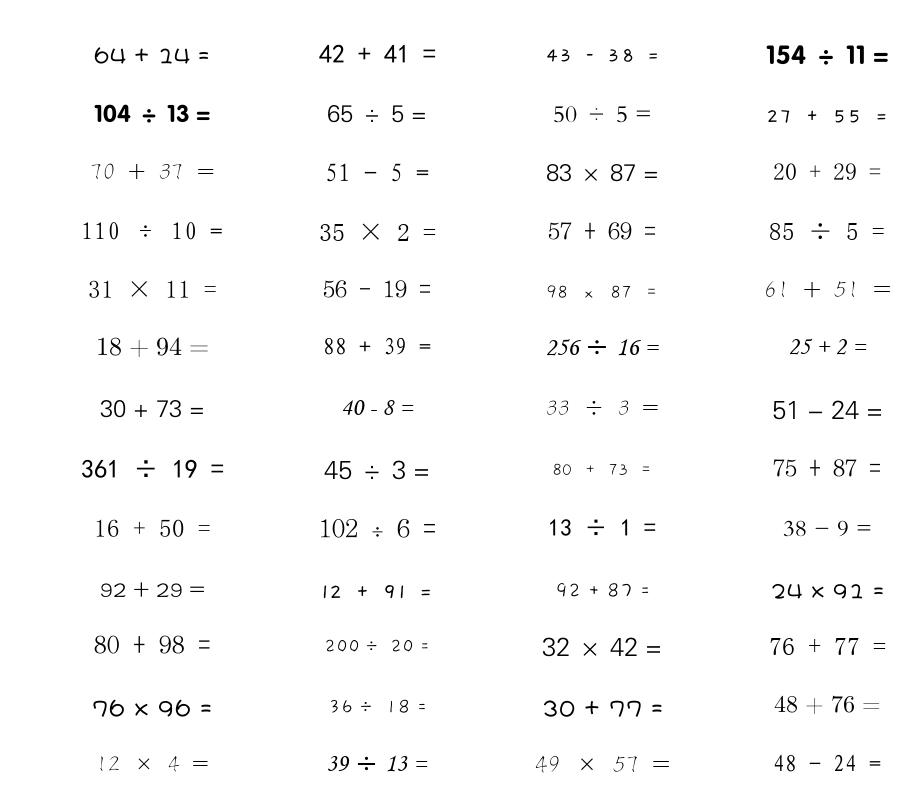MQ: (81, 459, 224, 478), (81, 222, 223, 240), (766, 45, 889, 65), (535, 755, 670, 773), (542, 637, 662, 657), (96, 337, 209, 358), (319, 518, 436, 538), (88, 280, 217, 298), (319, 44, 436, 63), (94, 635, 211, 654), (772, 400, 883, 420), (94, 104, 210, 123), (92, 699, 212, 717), (764, 281, 891, 298), (90, 163, 215, 180), (324, 460, 430, 480), (319, 223, 436, 241), (94, 519, 211, 537), (769, 222, 885, 240), (542, 700, 663, 717), (546, 164, 659, 182), (774, 695, 881, 714), (769, 638, 886, 655), (325, 163, 429, 182), (94, 47, 210, 64), (548, 222, 656, 240), (323, 280, 431, 298), (323, 337, 431, 355), (773, 459, 881, 477), (773, 754, 881, 772), (545, 339, 659, 356), (327, 104, 427, 123), (100, 400, 205, 418), (773, 163, 881, 180), (548, 519, 656, 536), (771, 583, 884, 599), (96, 756, 209, 772), (100, 581, 205, 598), (326, 755, 428, 772), (546, 400, 659, 415), (553, 106, 652, 123), (766, 110, 888, 123), (546, 285, 658, 299), (321, 585, 433, 599), (555, 582, 650, 598), (783, 520, 872, 537), (545, 49, 660, 62), (328, 699, 427, 714), (324, 639, 430, 653), (788, 338, 867, 355), (552, 463, 652, 476), (341, 400, 414, 415)
